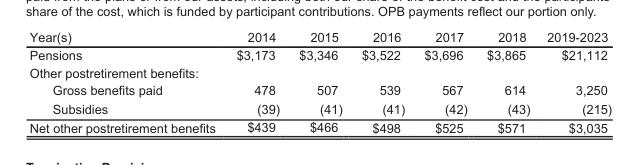table: (28, 29, 611, 134)
table column: (28, 29, 225, 134), (537, 29, 611, 134), (225, 29, 288, 134), (288, 29, 351, 134), (413, 29, 476, 134), (351, 29, 413, 134), (476, 29, 537, 134)
table column header: (28, 29, 611, 45)
table projected row header: (28, 63, 611, 81)
table row: (28, 45, 611, 63), (28, 63, 611, 81), (28, 81, 611, 99), (28, 99, 611, 117), (28, 117, 611, 134), (28, 29, 611, 45)
